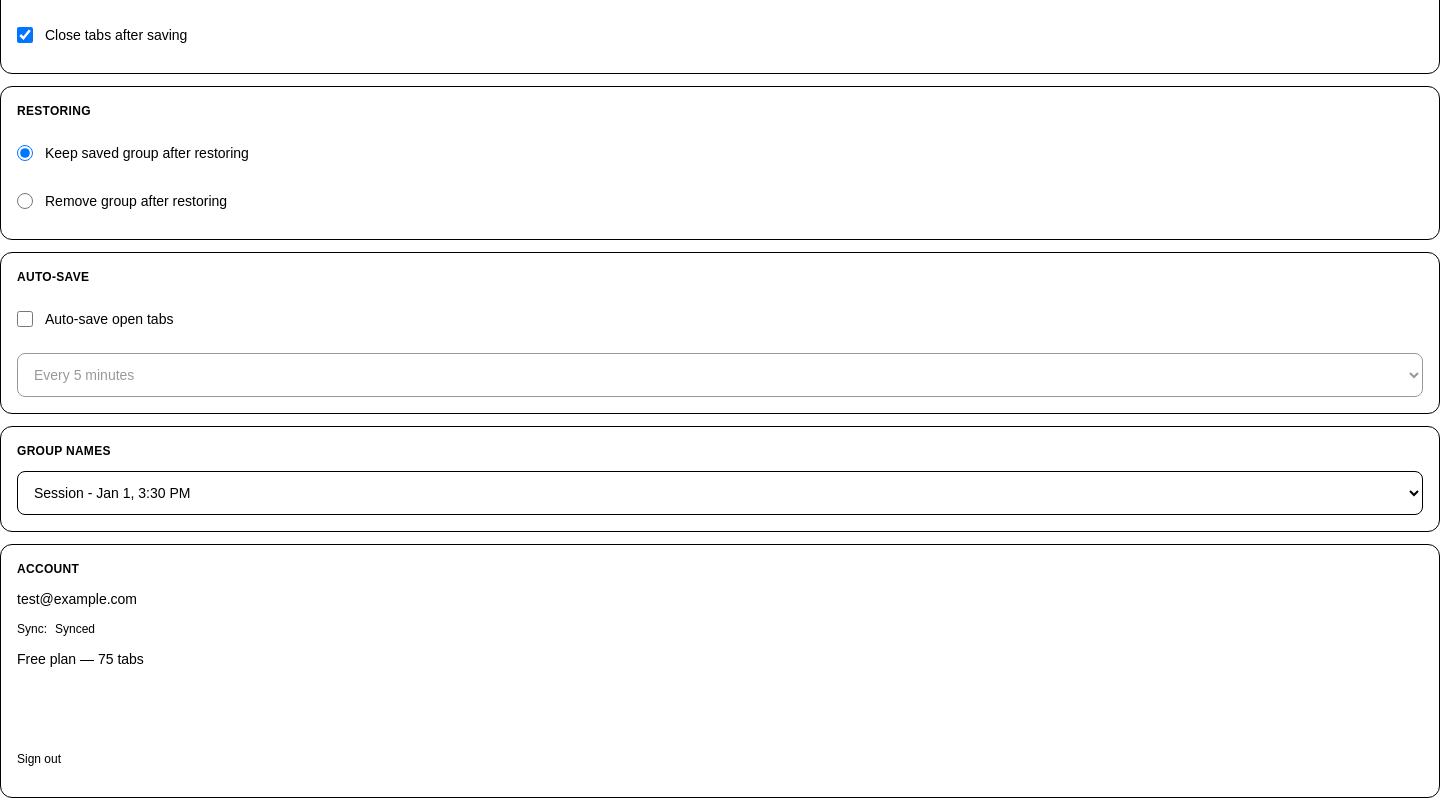
Scenario: SettingsPanel › Account section — logged in › shows sign out confirmation on click
The width and height of the screenshot is (1440, 810).
(page scrolled)
Click the button "Sign out".
click(39, 759)  # box [17, 737, 61, 781]
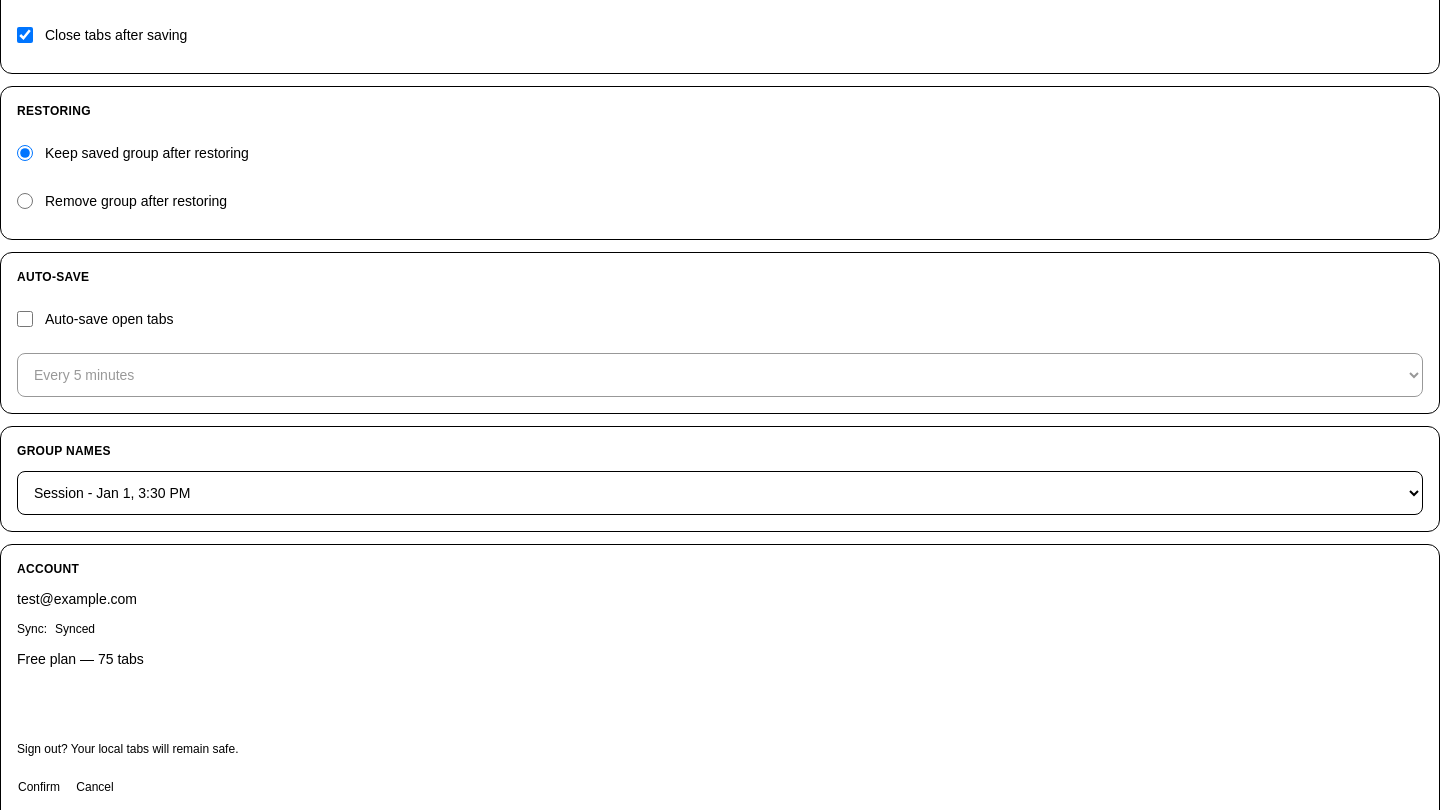
expect the text "Sign out? Your local tabs will remain safe." is shown: met, box [17, 742, 238, 756]
expect the button "Confirm" is shown: met, box [17, 765, 61, 809]
expect the button "Cancel" is shown: met, box [73, 765, 117, 809]
